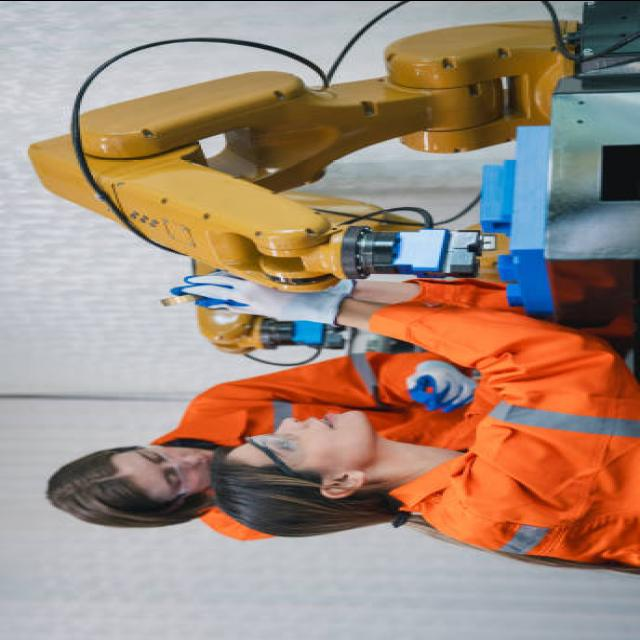Robotic-arm: (22, 16, 570, 294), (184, 288, 342, 354)
